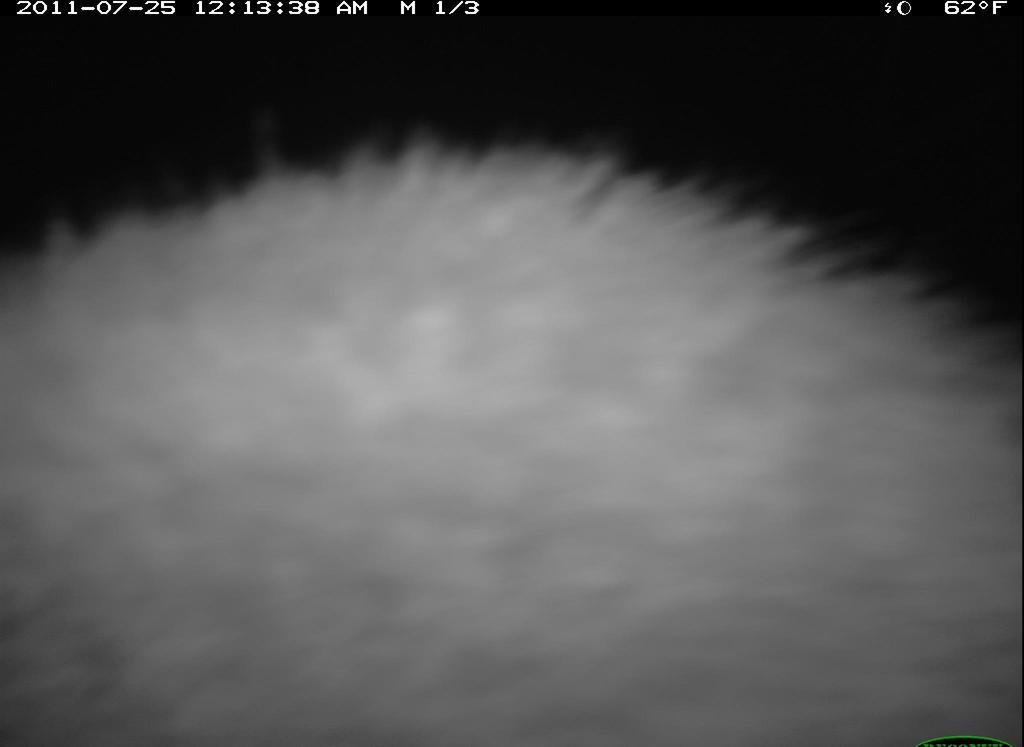raccoon: (2, 141, 1023, 744)
